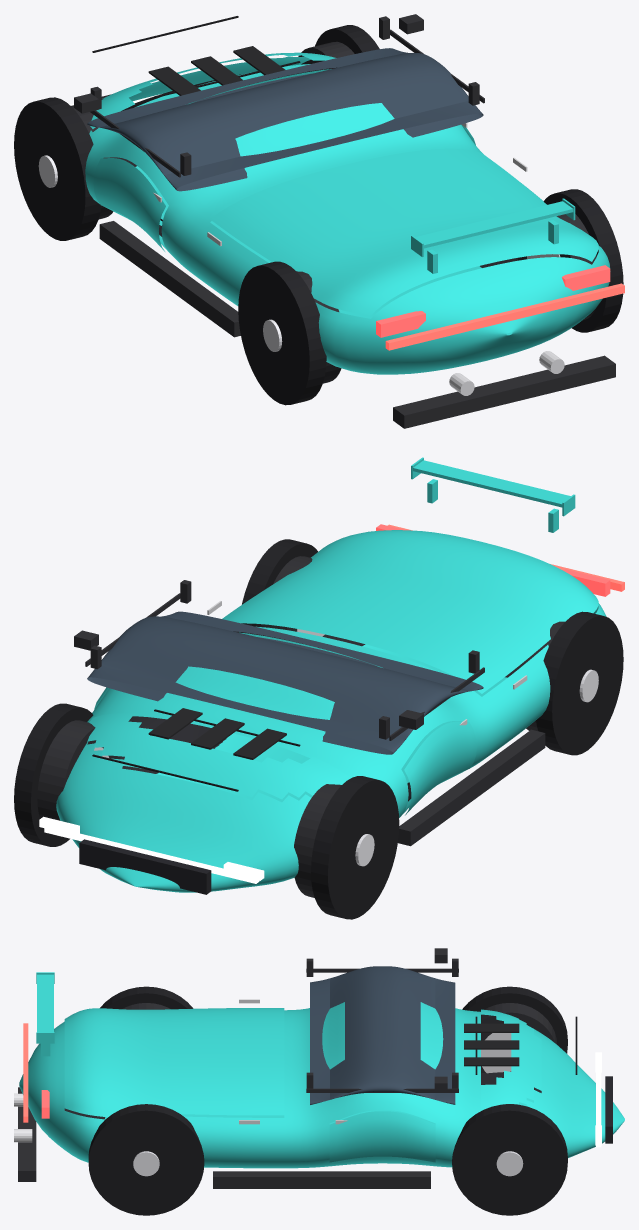
The model's file is car_gen_hyper.glb.
3 renders of one model, top to bottom at view 1: azimuth 30°, elevation 25°; view 2: azimuth 150°, elevation 25°; view 3: azimuth 270°, elevation 25°, orthographic. The views are drawn at different scales.
Parts seen in each view (by area): view 1: Body, Boot, Window, Arch.003, Arch.001, Diffuser, Skirt, Door.001, Arch, Rear_Light_Bar, Spoiler, Bonnet (+7 smaller); view 2: Body, Boot, Window, Arch.001, Bonnet, Arch.003, Skirt, Arch.002, Door.001, Grille, Tires.001, Spoiler (+7 smaller); view 3: Body, Boot, Window, Arch, Arch.002, Door, Skirt.001, Bonnet, Arch.001, Arch.003, Tires, Diffuser (+12 smaller).
Boxes of the visible parts, x1,y1,x2,y2 form: Body: (85, 56, 610, 374); Boot: (210, 148, 598, 315); Window: (87, 48, 483, 191); Arch.003: (238, 261, 326, 405); Arch.001: (14, 97, 101, 240); Diffuser: (393, 355, 615, 428); Skirt: (99, 221, 240, 337); Door.001: (93, 158, 165, 251); Arch: (543, 189, 623, 332); Rear_Light_Bar: (385, 283, 624, 350); Spoiler: (415, 201, 573, 248); Bonnet: (90, 52, 336, 128); Body: (56, 603, 606, 892); Boot: (222, 530, 598, 693); Window: (87, 611, 483, 754); Arch.001: (311, 776, 399, 919); Bonnet: (87, 713, 350, 799); Arch.003: (536, 611, 623, 755); Skirt: (398, 729, 545, 846); Arch.002: (14, 703, 93, 846); Door.001: (404, 721, 476, 815); Grille: (79, 839, 211, 894); Tires.001: (37, 720, 120, 820); Spoiler: (413, 460, 570, 507); Body: (19, 1002, 624, 1168); Boot: (64, 1008, 284, 1117); Window: (310, 966, 455, 1104); Arch: (88, 1104, 204, 1215); Arch.002: (452, 1104, 567, 1215); Door: (329, 1111, 435, 1162); Skirt.001: (213, 1171, 430, 1188); Bonnet: (481, 1009, 541, 1110); Arch.001: (462, 986, 567, 1053); Arch.003: (100, 986, 193, 1009); Tires: (481, 1003, 557, 1073); Diffuser: (18, 1087, 36, 1181).
Size of the model in its own units: 2.43 by 1.26 by 4.64.
Materials: 17 (1 with a texture image).
